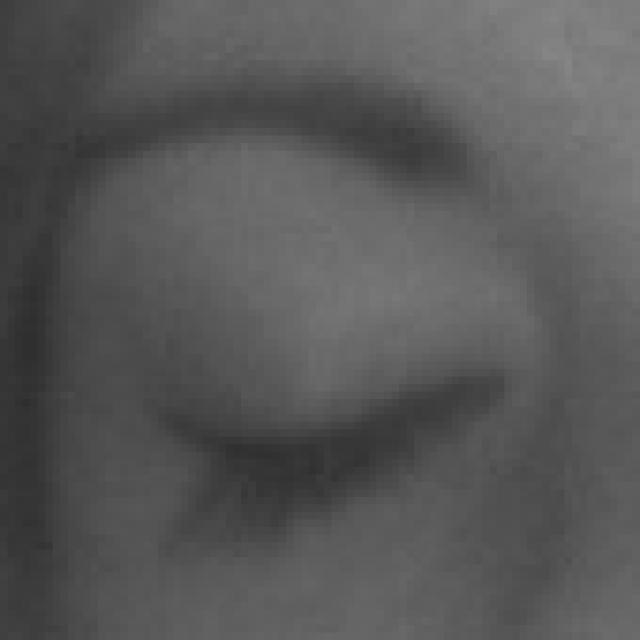close: (13, 25, 611, 627)
